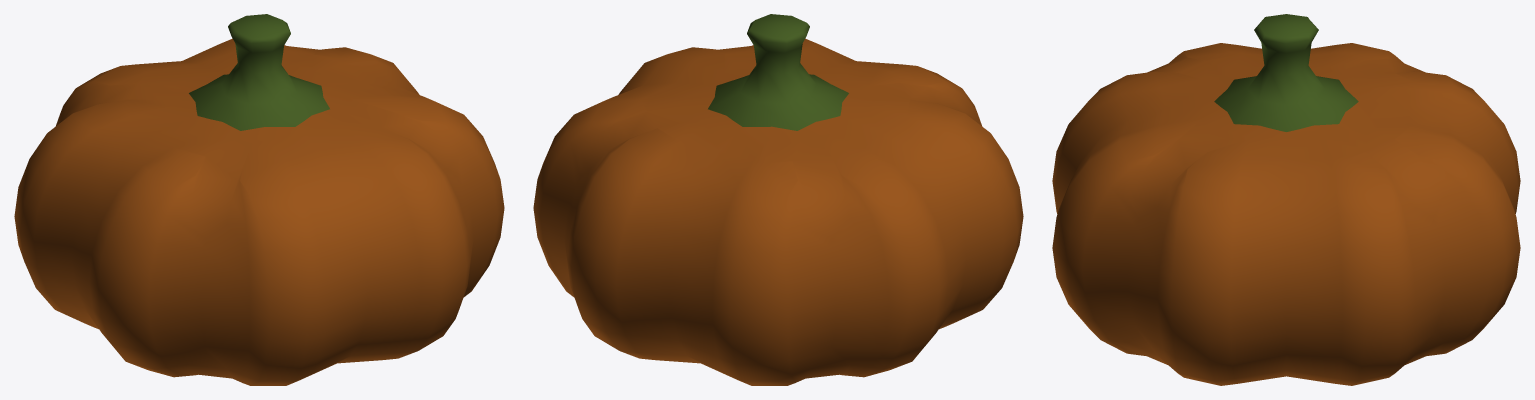
File: pumpkin.fbx
The picture shows the model from 3 angles, left to right: view 1: azimuth 30°, elevation 25°; view 2: azimuth 150°, elevation 25°; view 3: azimuth 270°, elevation 25°; orthographic projection.
Parts seen in each view (by area): view 1: Cube; view 2: Cube; view 3: Cube.
Boxes of the visible parts, box(x1,y1,x2,y2) form: Cube: box(14, 14, 504, 385); Cube: box(533, 14, 1023, 385); Cube: box(1052, 14, 1520, 385).
Size of the model in its own units: 23.29 by 16.95 by 23.29.
